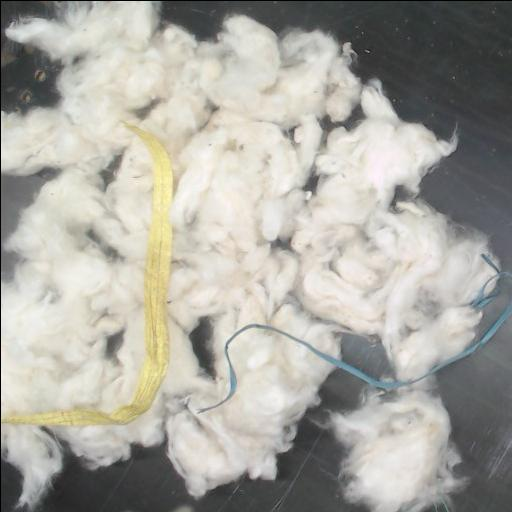cloth: (1, 123, 172, 425)
conveyor belt: (163, 1, 512, 270), (38, 417, 363, 512), (438, 319, 512, 512), (1, 51, 55, 110)
cotton: (1, 1, 494, 463), (169, 333, 331, 494), (333, 384, 449, 512)
thread: (197, 293, 512, 412), (482, 254, 512, 282), (473, 293, 496, 305)
